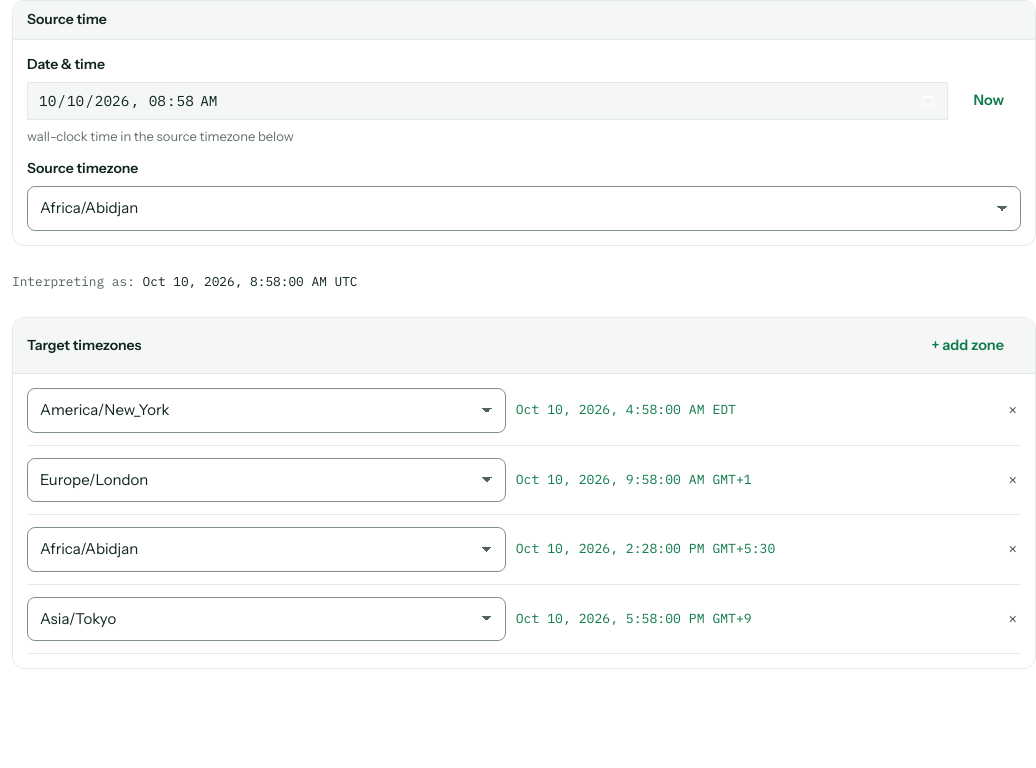
TimezoneConverter › shows "No target timezones" notice after all zones are removed
Click the button titled "Remove" in the row of "Oct 10, 2026, 4:58:00 AM EDT".
click(1013, 410)  # box [1004,398,1021,423]
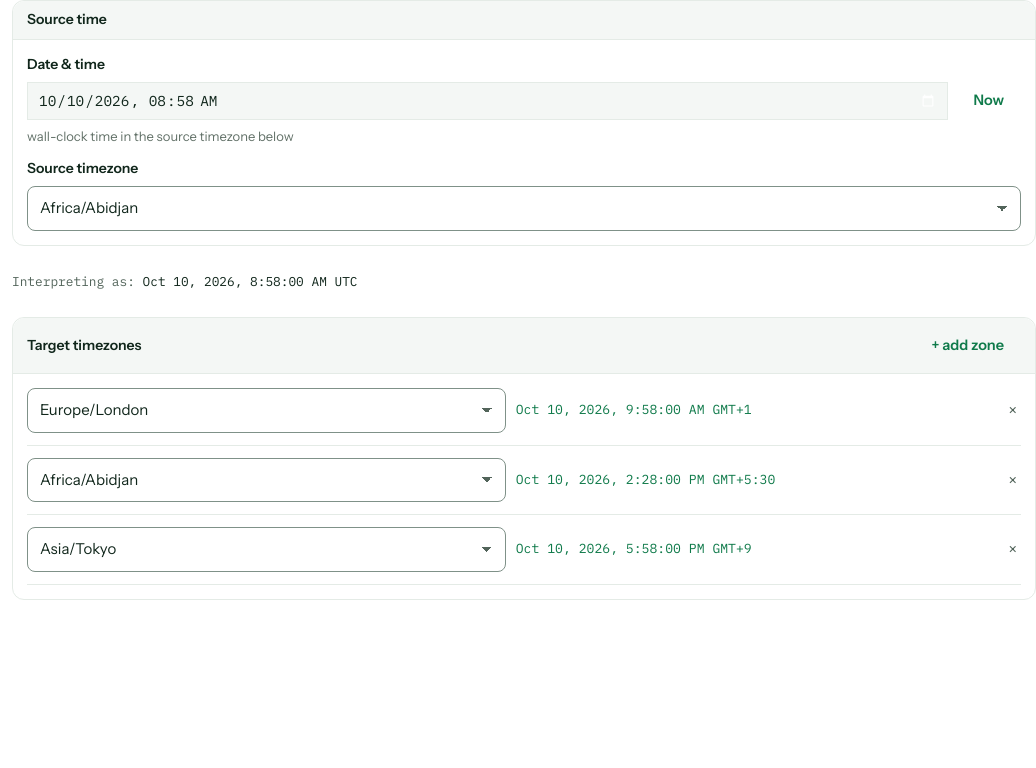
Click the button titled "Remove" in the row of "Oct 10, 2026, 9:58:00 AM GMT+1".
click(1013, 410)  # box [1004,398,1021,423]
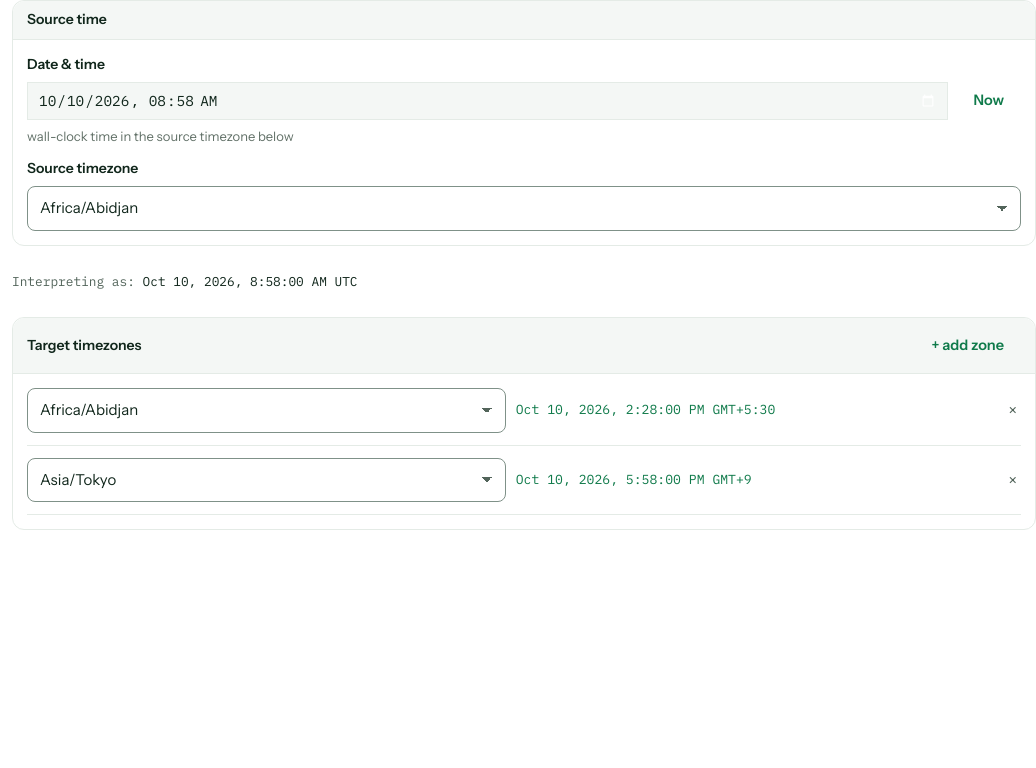
Click the button titled "Remove" in the row of "Oct 10, 2026, 2:28:00 PM GMT+5:30".
click(1013, 410)  # box [1004,398,1021,423]
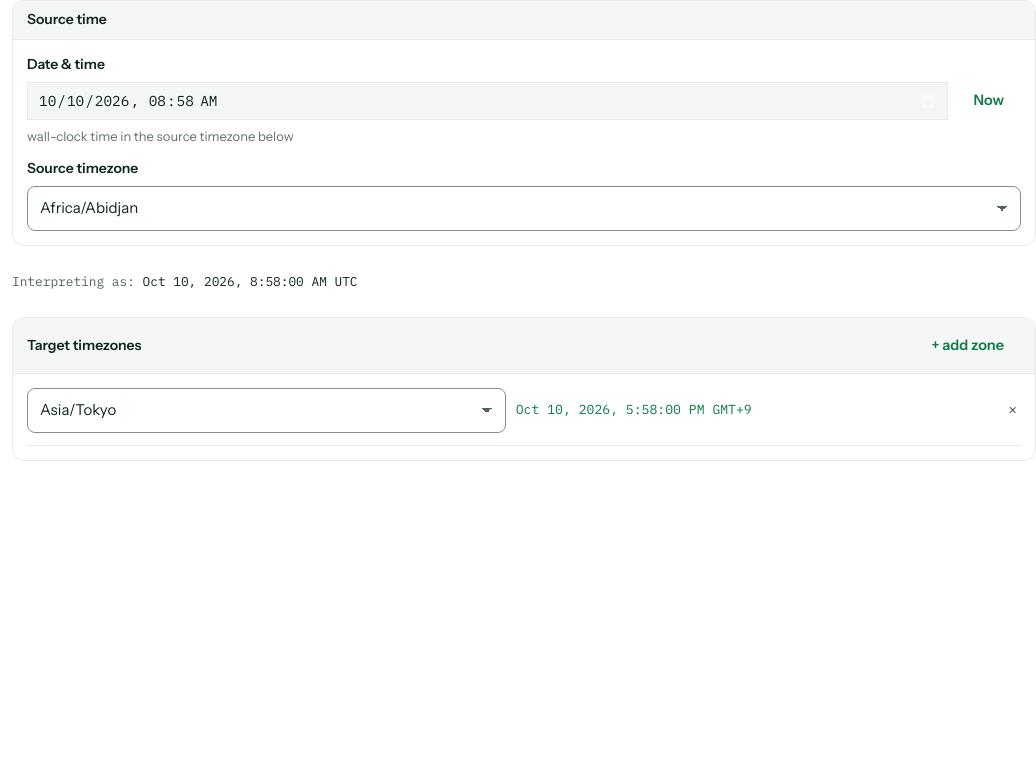
Click the button titled "Remove".
click(1013, 410)  # box [1004,398,1021,423]
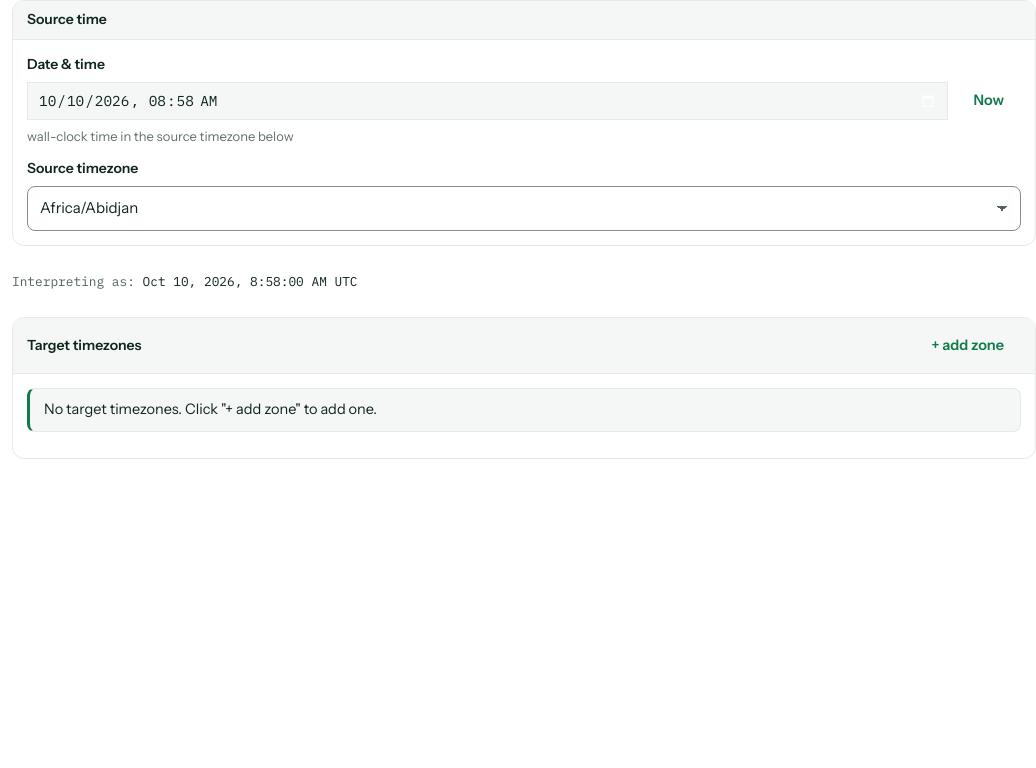
Check: the text "No target timezones. Click \"+ add zone\" to add one." is shown, box [27,388,1021,432]
